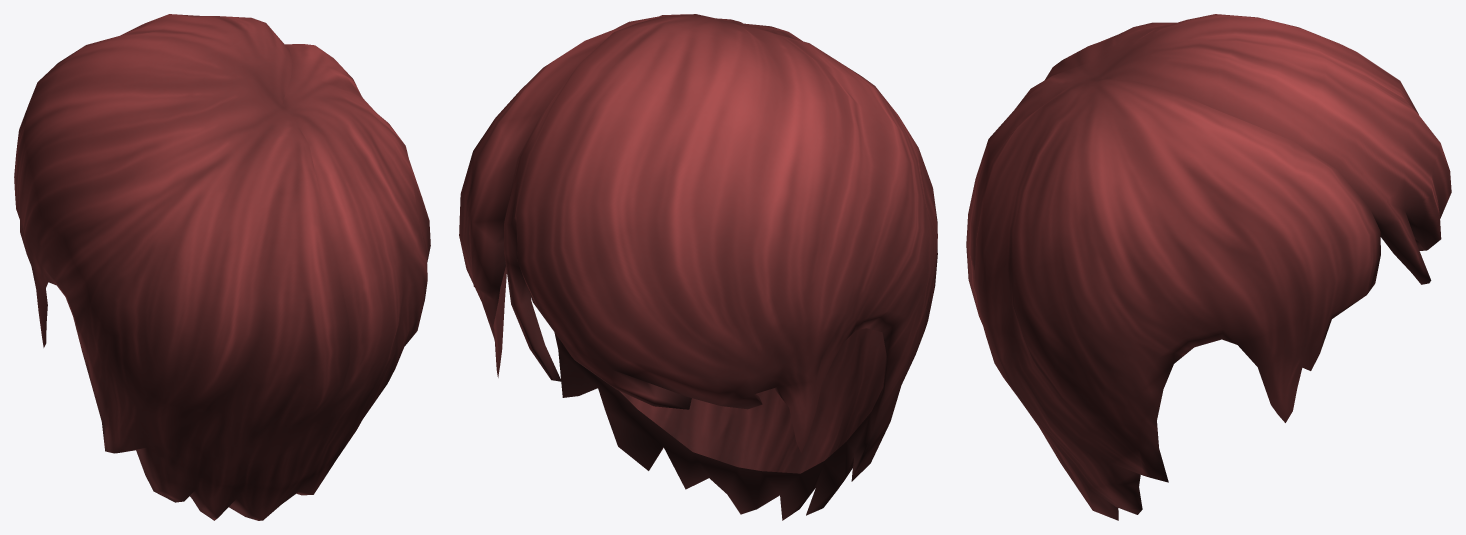
Rendered from Hair_Male_004_textured_red.glb.
3 renders of one model, left to right at view 1: azimuth 30°, elevation 25°; view 2: azimuth 150°, elevation 25°; view 3: azimuth 270°, elevation 25°, orthographic. The views are drawn at different scales.
Parts seen in each view (by area): view 1: Hair_Male_004; view 2: Hair_Male_004; view 3: Hair_Male_004.
Boxes of the visible parts, <box> form: Hair_Male_004: <box>14,14,430,520</box>; Hair_Male_004: <box>459,14,937,520</box>; Hair_Male_004: <box>966,14,1451,520</box>.
Bounding box in the file's own units: 0.189 × 0.2477 × 0.2273.
Materials: 1 (1 with a texture image).
